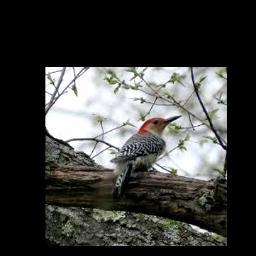Woodpecker: (111, 115, 182, 197)
